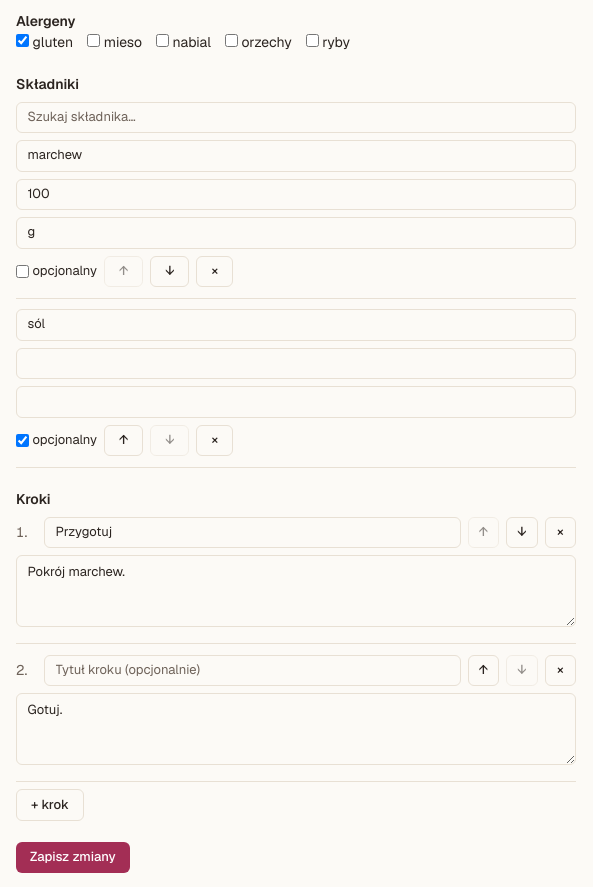
Test case: edit round trip › shows the error and stays on the page when the update is refused
(page scrolled)
Click the button "Zapisz zmiany".
click(73, 858)  # box x1=16 y1=842 x2=130 y2=873
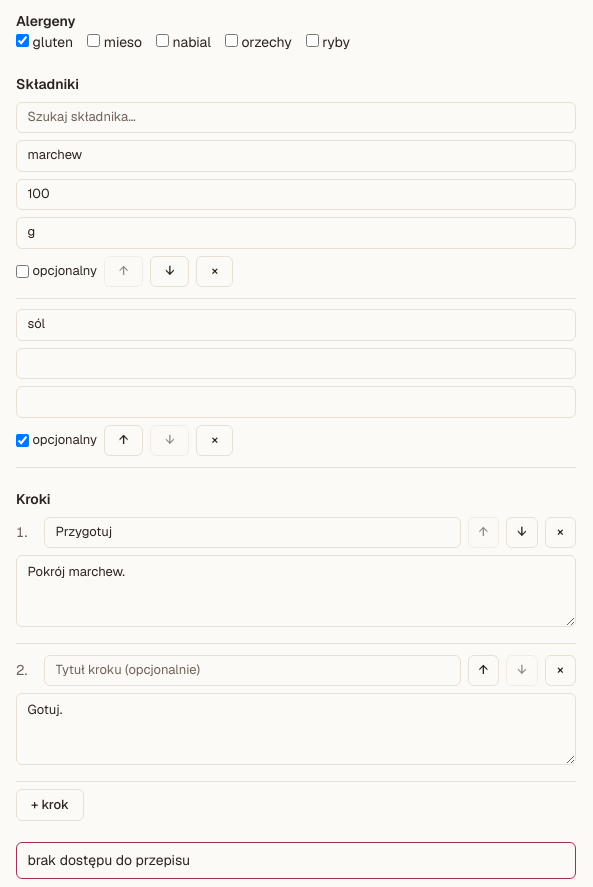
Result: the message reads "brak dostępu do przepisu" at x1=28 y1=851 x2=190 y2=869
